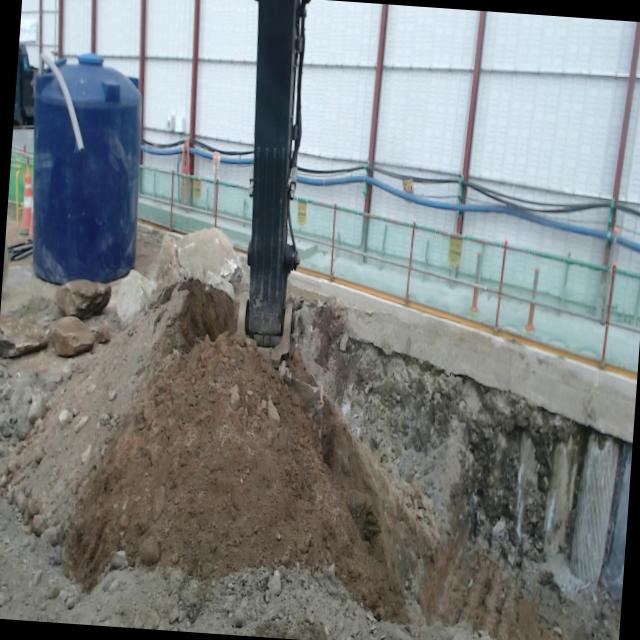stone: (55, 279, 110, 319), (0, 315, 50, 358), (49, 316, 95, 356)
white-sand: (0, 284, 567, 640)
